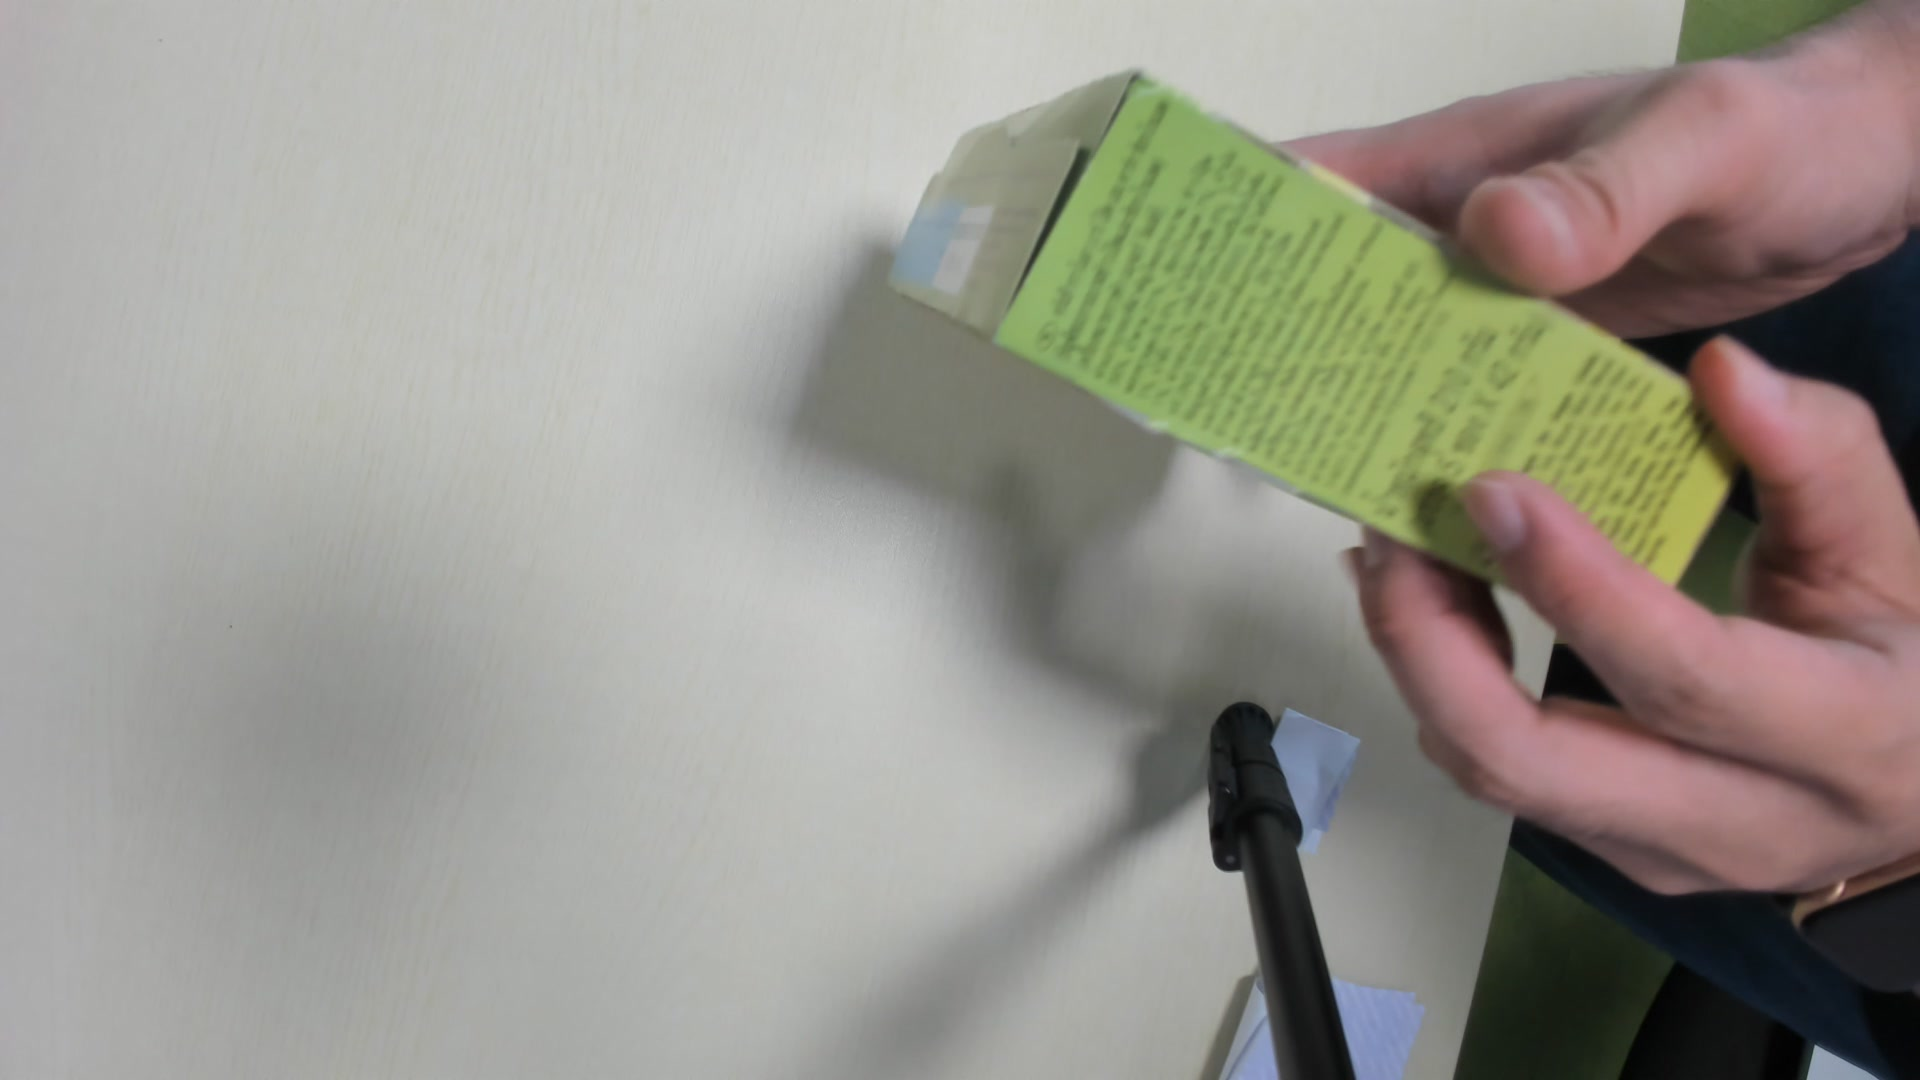SweetsChocolatesOthers_200-299g_Halal_Nonhealthy: (874, 73, 1747, 621)
